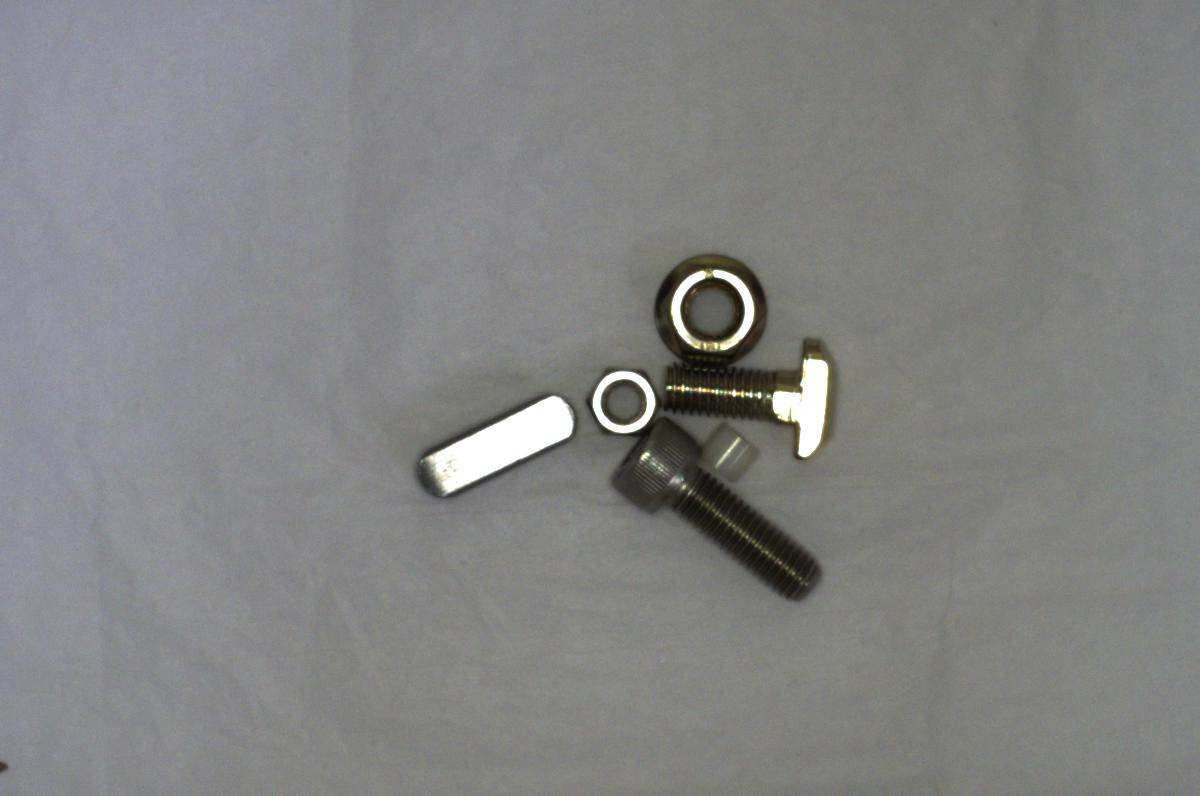Flange nut: (647, 241, 770, 356)
Hexagon nut: (577, 352, 659, 441)
Hexagon screw: (598, 416, 844, 610)
Keybar: (418, 383, 573, 505)
Plastic cushion pillar: (694, 418, 762, 489)
T-shaped screw: (660, 335, 838, 466)
